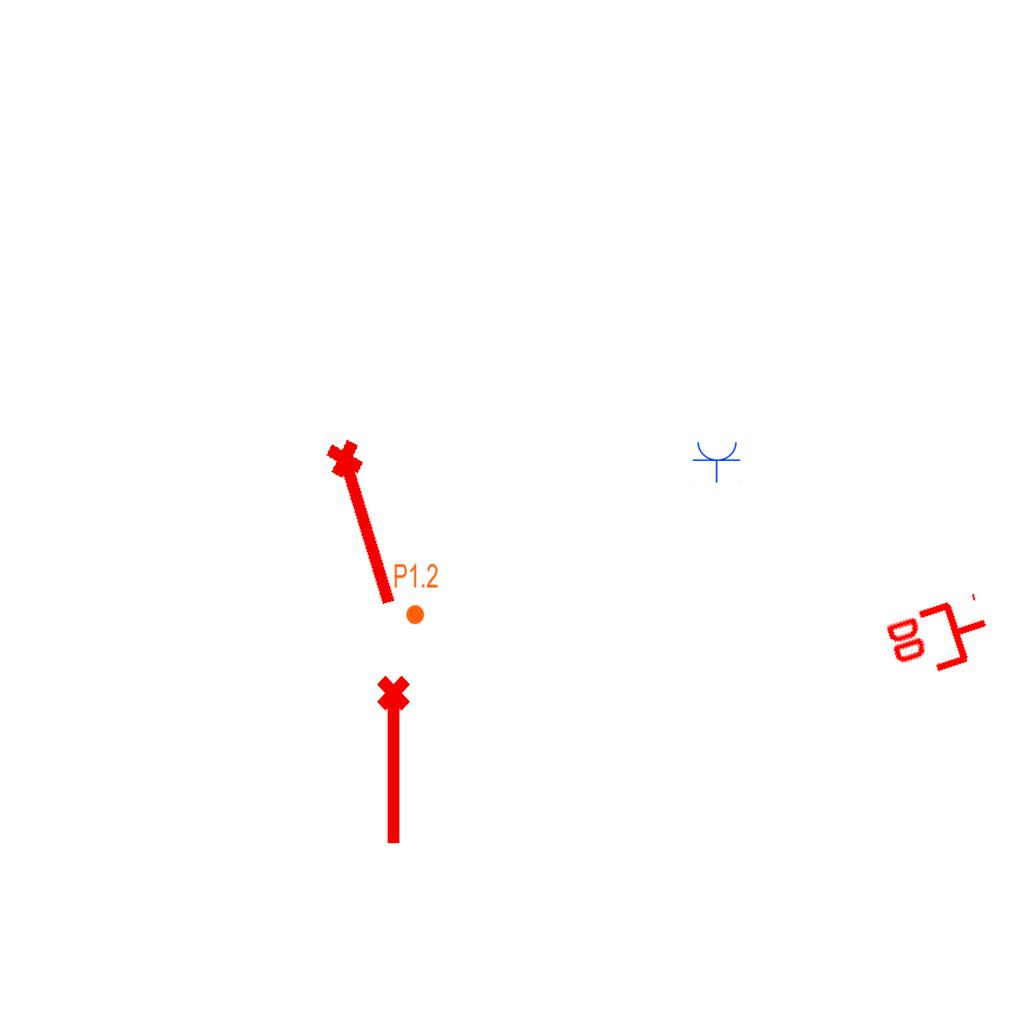ASR_Ansaugoeffnung: (319, 432, 415, 614), (373, 673, 419, 849)
Datenanschluss_zweifach: (879, 590, 1000, 689)
Downlight_LED_Einbauleuchten_Flur: (393, 562, 439, 626)
Schukosteckdose_einfach: (692, 440, 742, 483)
